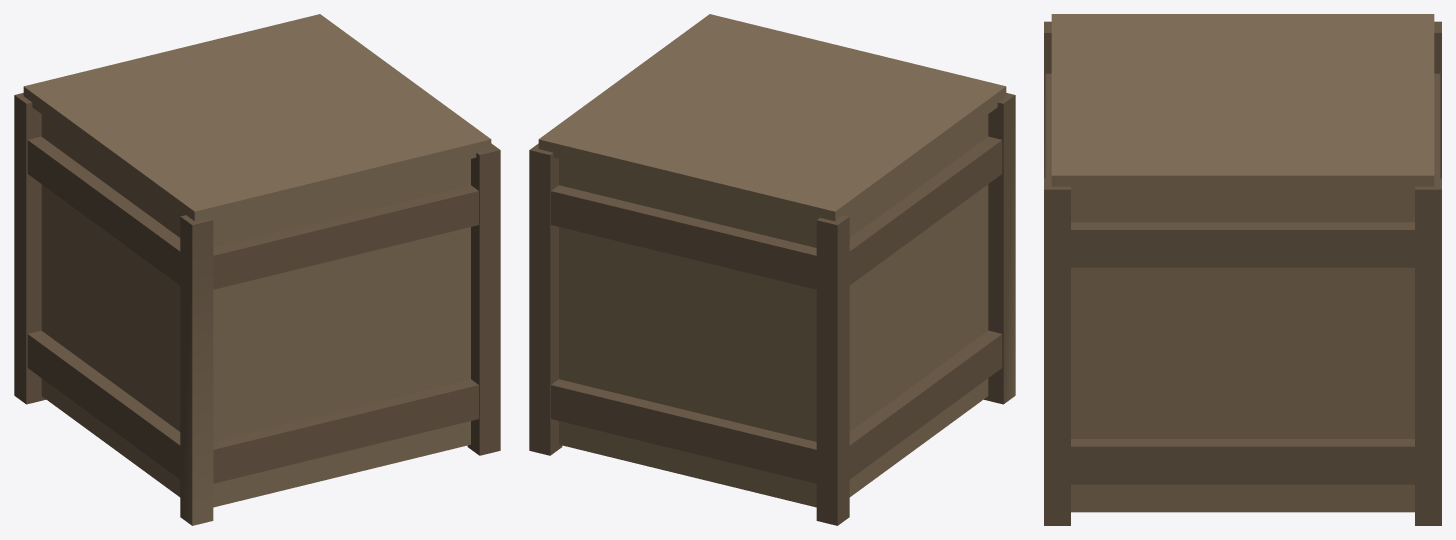
File: crate_wood.glb
The picture shows the model from 3 angles, left to right: view 1: azimuth 30°, elevation 25°; view 2: azimuth 150°, elevation 25°; view 3: azimuth 270°, elevation 25°; orthographic projection. The views are drawn at different scales.
Parts seen in each view (by area): view 1: crate_wood; view 2: crate_wood; view 3: crate_wood.
Part boxes in pixels (<box>): crate_wood: <box>14,14,500,525</box>; crate_wood: <box>529,14,1015,525</box>; crate_wood: <box>1044,14,1441,525</box>.
Size of the model in its own units: 0.665 by 0.64 by 0.665.
